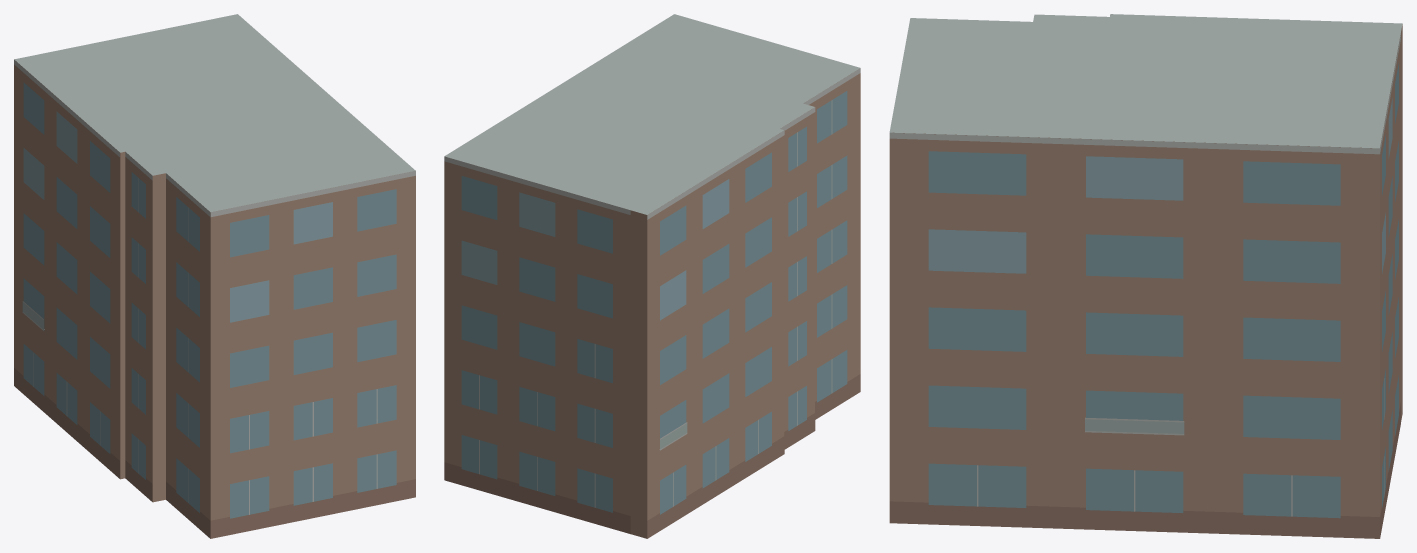
Rendered from survey-upis-32762599.glb.
3 views of the same model, side by side, from view 1: azimuth 30°, elevation 25°; view 2: azimuth 150°, elevation 25°; view 3: azimuth 270°, elevation 25° (orthographic). The views are drawn at different scales.
Visible parts, largest first — view 1: survey-upis-32762599.tmp; view 2: survey-upis-32762599.tmp; view 3: survey-upis-32762599.tmp.
Part boxes in pixels (x1,y1,x2,y2): survey-upis-32762599.tmp: [14, 14, 415, 538]; survey-upis-32762599.tmp: [444, 14, 860, 538]; survey-upis-32762599.tmp: [889, 14, 1402, 538].
Bounding box in the file's own units: 11.82 × 16 × 19.06.
